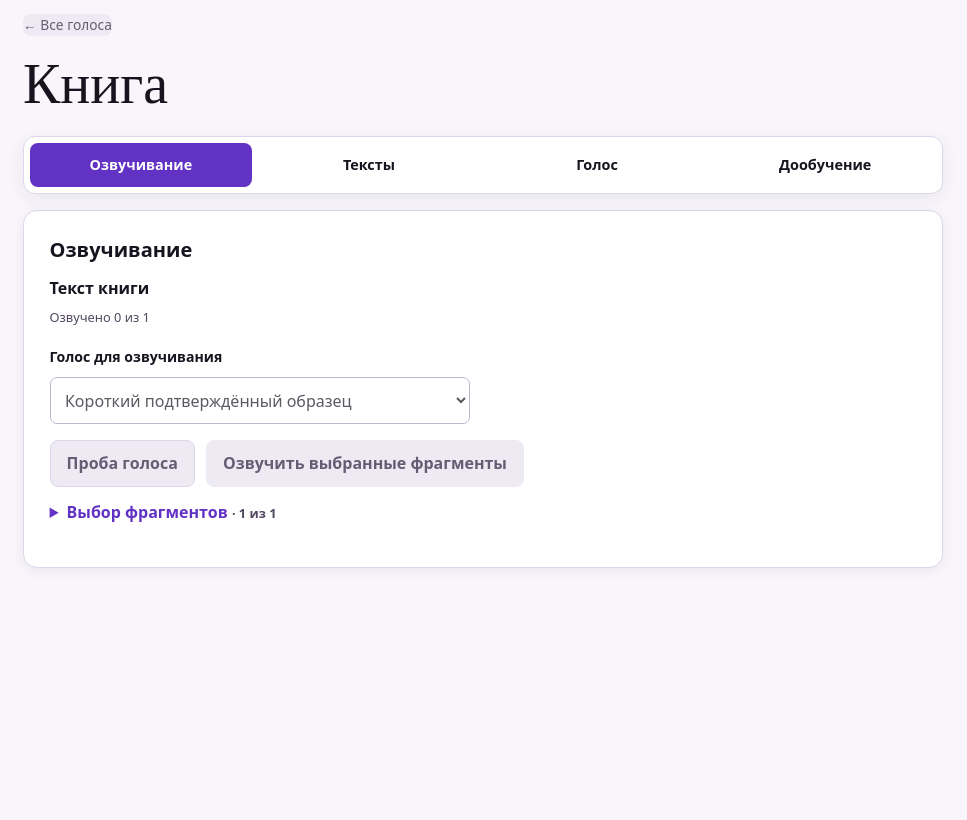
Test: Russian corpus review › keeps fresh preparation disabled while another project operation is busy
Click the button "Дообучение": coordinates (825, 165) x1=714 y1=143 x2=936 y2=187
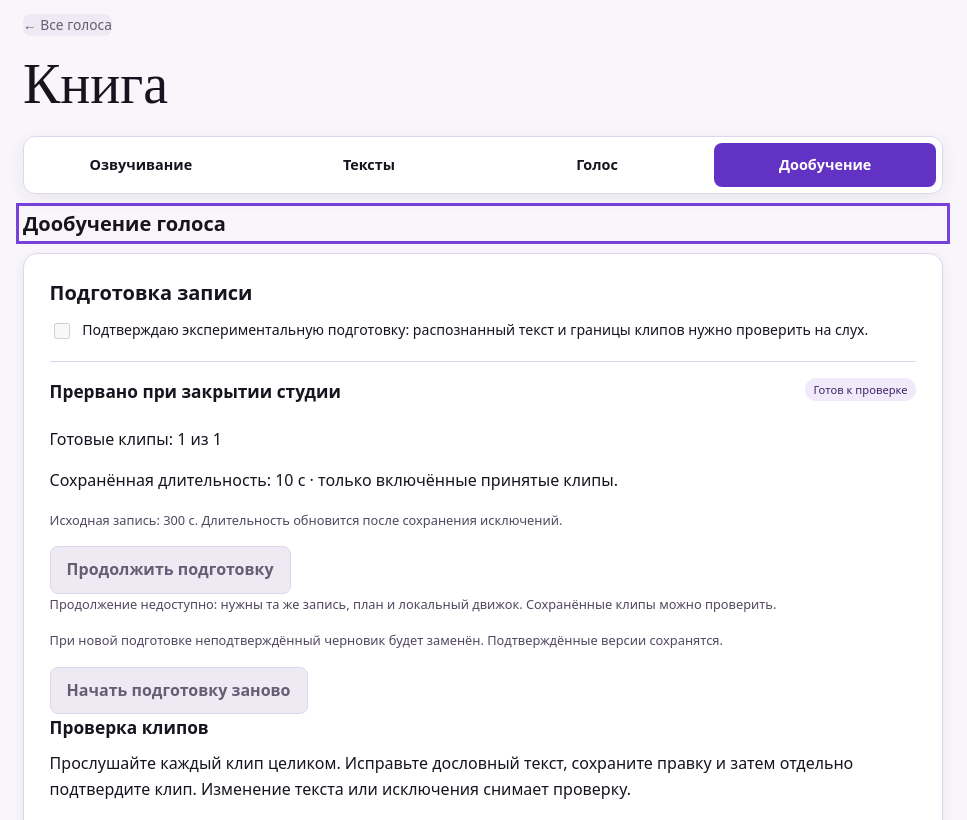
Expected: the button "Начать подготовку заново" is disabled, x1=50 y1=667 x2=308 y2=714
Expected: the checkbox labelled "экспериментальную подготовку" is disabled, x1=54 y1=323 x2=70 y2=339
